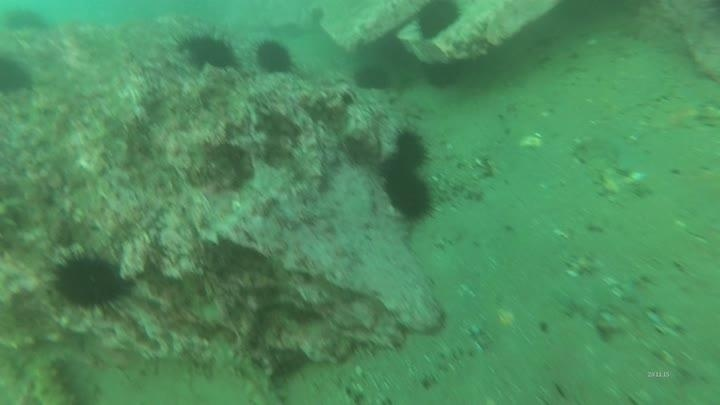echinus: (47, 246, 134, 318), (382, 169, 436, 222), (178, 29, 239, 73), (411, 1, 463, 43), (391, 127, 431, 172), (253, 37, 296, 77), (1, 5, 53, 36), (1, 52, 36, 98), (352, 62, 394, 94), (422, 59, 462, 92)
holothurian: (210, 341, 289, 405), (19, 351, 81, 405), (414, 338, 479, 389)
